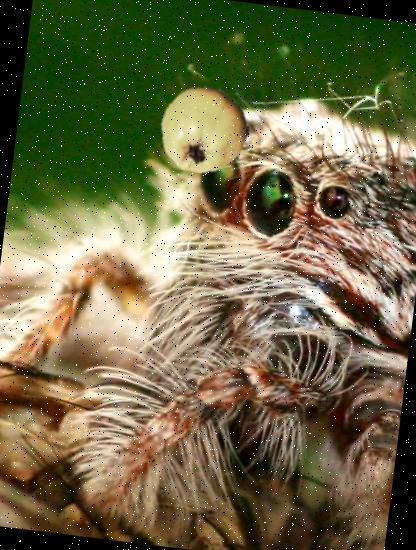Quince: (154, 80, 254, 180)
